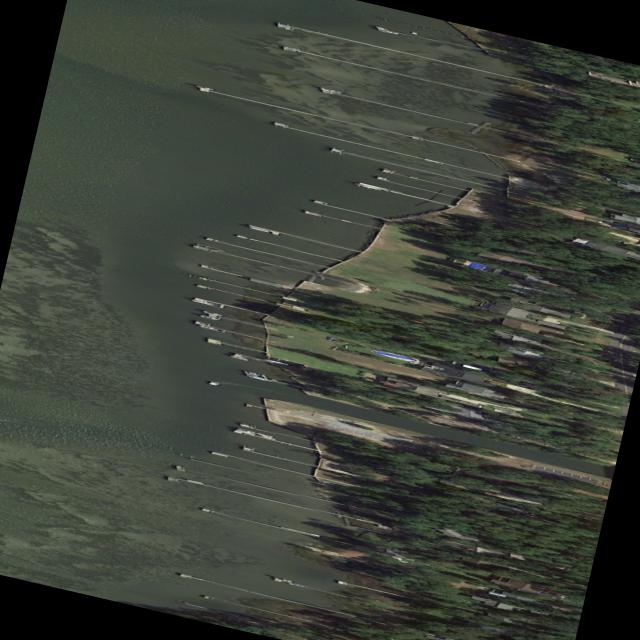ship: (352, 183, 380, 190), (249, 376, 276, 382), (263, 359, 289, 365), (190, 299, 214, 305), (318, 87, 342, 93), (196, 324, 219, 330), (227, 355, 249, 361), (201, 310, 223, 316), (377, 29, 399, 35), (248, 226, 269, 232), (235, 429, 255, 435), (271, 577, 293, 582), (193, 85, 213, 90), (199, 315, 218, 320), (286, 582, 305, 587), (184, 479, 203, 484), (236, 428, 255, 433), (318, 480, 336, 485), (282, 46, 300, 50), (206, 382, 221, 386), (246, 371, 258, 376), (409, 31, 418, 34)
